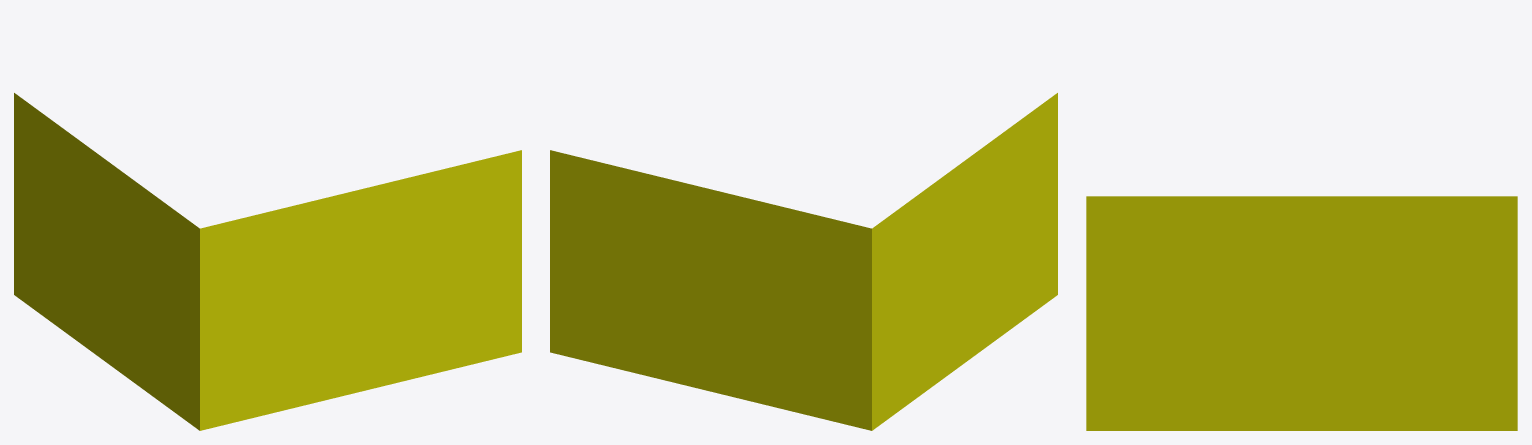
The model's file is cty_sq2.glb.
The picture shows the model from 3 angles, left to right: view 1: azimuth 30°, elevation 25°; view 2: azimuth 150°, elevation 25°; view 3: azimuth 270°, elevation 25°; orthographic projection. The views are drawn at different scales.
Visible parts, largest first — view 1: SM_Bld_OfficeSquare_02; view 2: SM_Bld_OfficeSquare_02; view 3: SM_Bld_OfficeSquare_02.
Part boxes in pixels (left/top/right/bottom): SM_Bld_OfficeSquare_02: left=14, top=93, right=521, bottom=430; SM_Bld_OfficeSquare_02: left=550, top=93, right=1057, bottom=430; SM_Bld_OfficeSquare_02: left=1086, top=196, right=1517, bottom=430.
Bounding box in the file's own units: 0.15 × 0.0901 × 0.15.
Materials: 1 (1 with a texture image).
